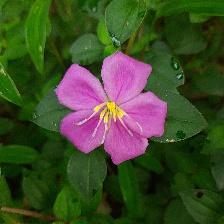malabar melastome: (54, 49, 173, 165)
